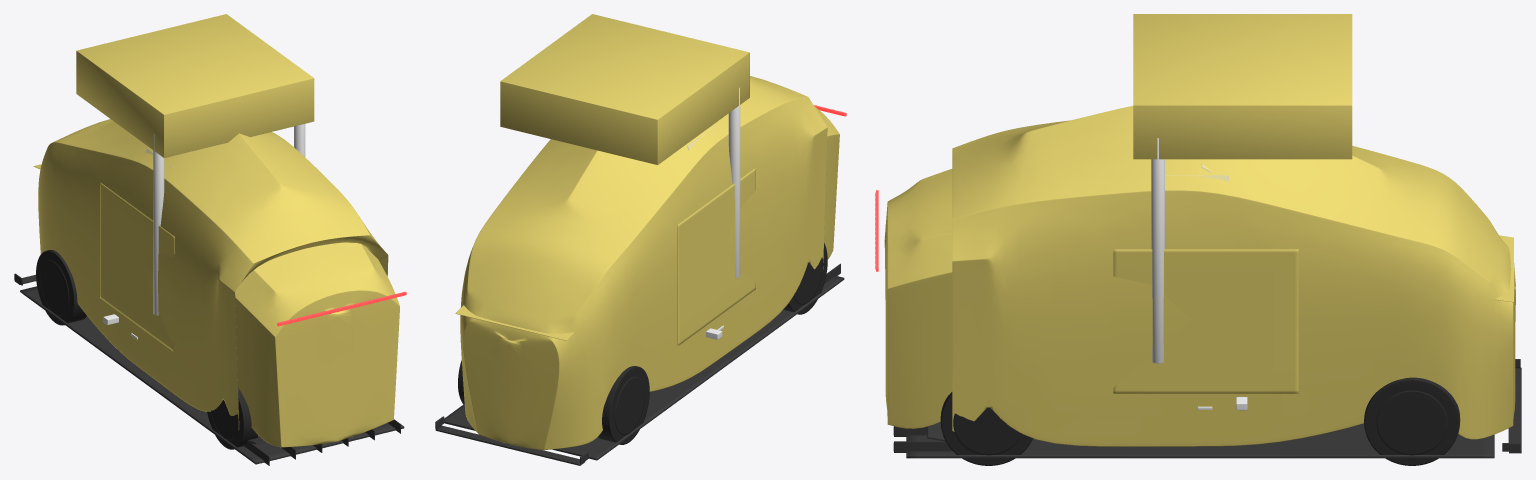
The model's file is vehicle.opt.glb.
3 views of the same model, side by side, from view 1: azimuth 30°, elevation 25°; view 2: azimuth 150°, elevation 25°; view 3: azimuth 270°, elevation 25° (orthographic). The views are drawn at different scales.
Parts seen in each view (by area): view 1: BODY_MainShell, BODY_K100_AerodyneRoof, BODY_Door_FL, UNDERBODY_FlatFloor, WHEEL_FL_Tire, JEWELRY_K100_Stacks, WHEEL_RL_Tire, LIGHTING_Taillamps; view 2: BODY_MainShell, BODY_K100_AerodyneRoof, BODY_Door_FL, UNDERBODY_FlatFloor, WHEEL_FL_Tire, JEWELRY_K100_Stacks, WHEEL_RL_Tire, AERO_FrontSplitter, BODY_Hood; view 3: BODY_MainShell, BODY_K100_AerodyneRoof, BODY_Door_FR, UNDERBODY_FlatFloor, WHEEL_FR_Tire, WHEEL_RR_Tire, JEWELRY_K100_Stacks, AERO_FrontSplitter.
Part boxes in pixels (<box>): BODY_MainShell: <box>38,119,399,447</box>; BODY_K100_AerodyneRoof: <box>76,14,314,157</box>; BODY_Door_FL: <box>100,182,174,351</box>; UNDERBODY_FlatFloor: <box>20,286,404,465</box>; WHEEL_FL_Tire: <box>36,249,86,325</box>; JEWELRY_K100_Stacks: <box>153,124,305,315</box>; WHEEL_RL_Tire: <box>207,388,258,449</box>; LIGHTING_Taillamps: <box>277,291,406,326</box>; BODY_MainShell: <box>460,76,839,450</box>; BODY_K100_AerodyneRoof: <box>500,14,749,164</box>; BODY_Door_FL: <box>677,168,755,345</box>; UNDERBODY_FlatFloor: <box>444,263,844,460</box>; WHEEL_FL_Tire: <box>598,366,649,444</box>; JEWELRY_K100_Stacks: <box>728,87,740,278</box>; WHEEL_RL_Tire: <box>783,243,827,314</box>; AERO_FrontSplitter: <box>435,416,588,465</box>; BODY_Hood: <box>455,305,574,340</box>; BODY_MainShell: <box>884,106,1515,446</box>; BODY_K100_AerodyneRoof: <box>1133,14,1352,159</box>; BODY_Door_FR: <box>1113,249,1298,393</box>; UNDERBODY_FlatFloor: <box>893,422,1494,458</box>; WHEEL_FR_Tire: <box>1364,377,1460,465</box>; WHEEL_RR_Tire: <box>940,392,1032,465</box>; JEWELRY_K100_Stacks: <box>1151,138,1164,363</box>; AERO_FrontSplitter: <box>1502,359,1521,453</box>.
Size of what is drawn, in the model's own units: 2.83 by 4.35 by 7.02.
